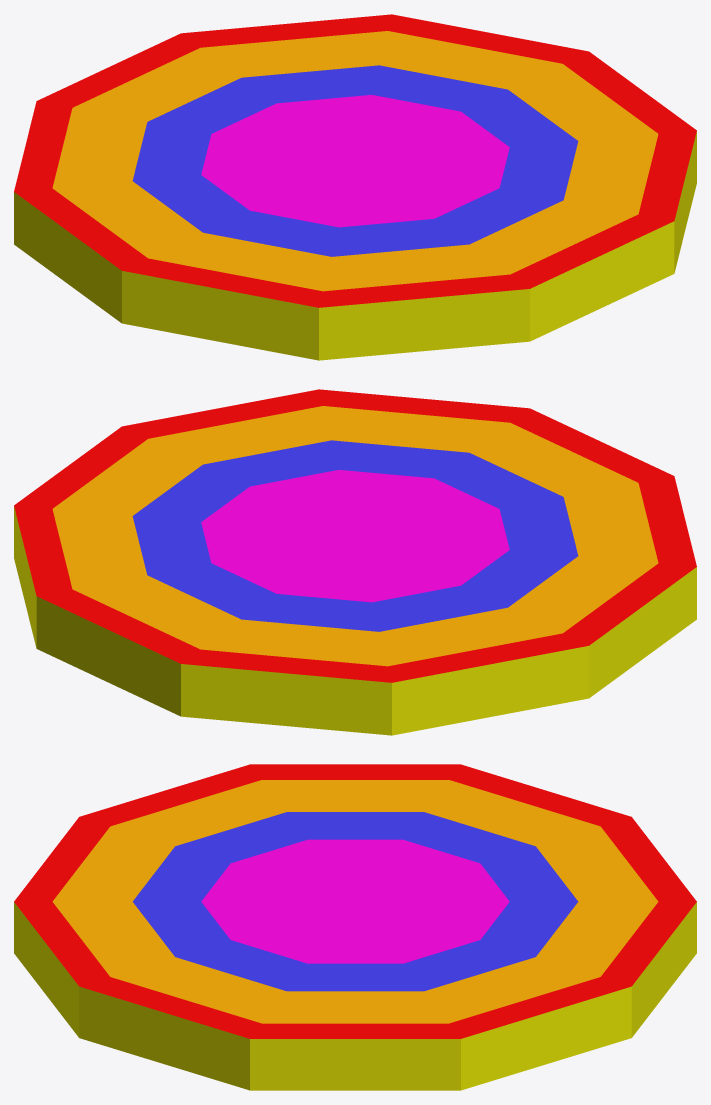
File: Platform type 3.fbx
The picture shows the model from 3 angles, top to bottom: view 1: azimuth 30°, elevation 25°; view 2: azimuth 150°, elevation 25°; view 3: azimuth 270°, elevation 25°; orthographic projection. The views are drawn at different scales.
Parts seen in each view (by area): view 1: Platform type 3.1; view 2: Platform type 3.1; view 3: Platform type 3.1.
Boxes of the visible parts, left/top/right/bottom form: Platform type 3.1: left=14, top=14, right=696, bottom=360; Platform type 3.1: left=14, top=389, right=696, bottom=735; Platform type 3.1: left=14, top=764, right=696, bottom=1090.
Size of the model in its own units: 5.71 by 0.5 by 6.
